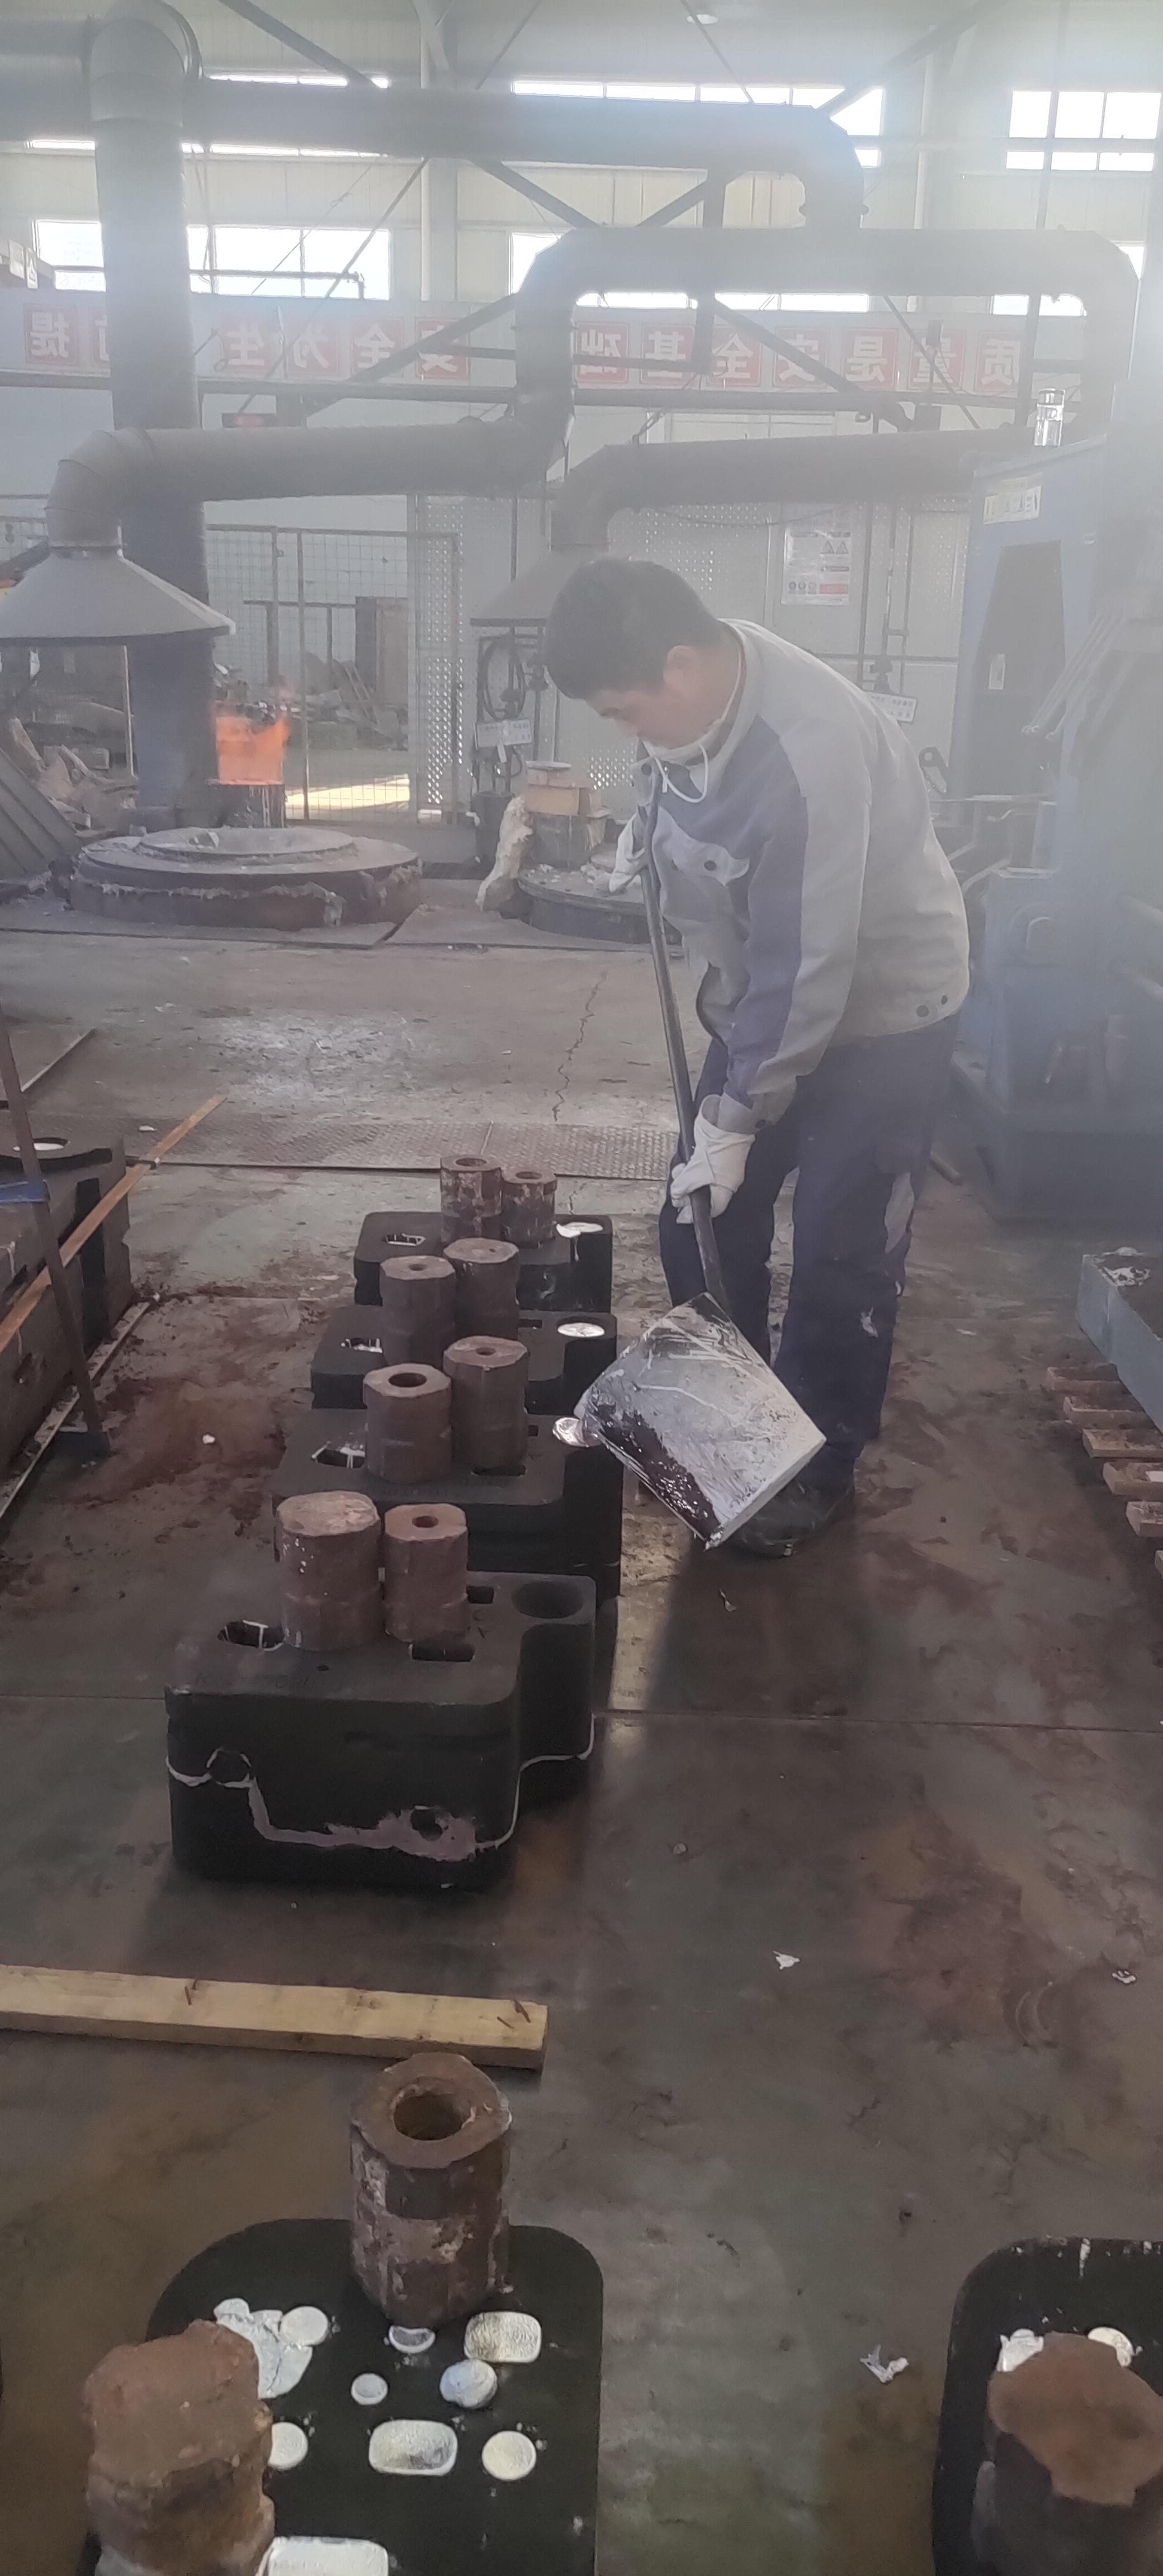pouring hole: (209, 2292, 319, 2397), (511, 1579, 585, 1618), (555, 1419, 609, 1447), (555, 1314, 609, 1339), (11, 1132, 71, 1153), (560, 1216, 606, 1239)
